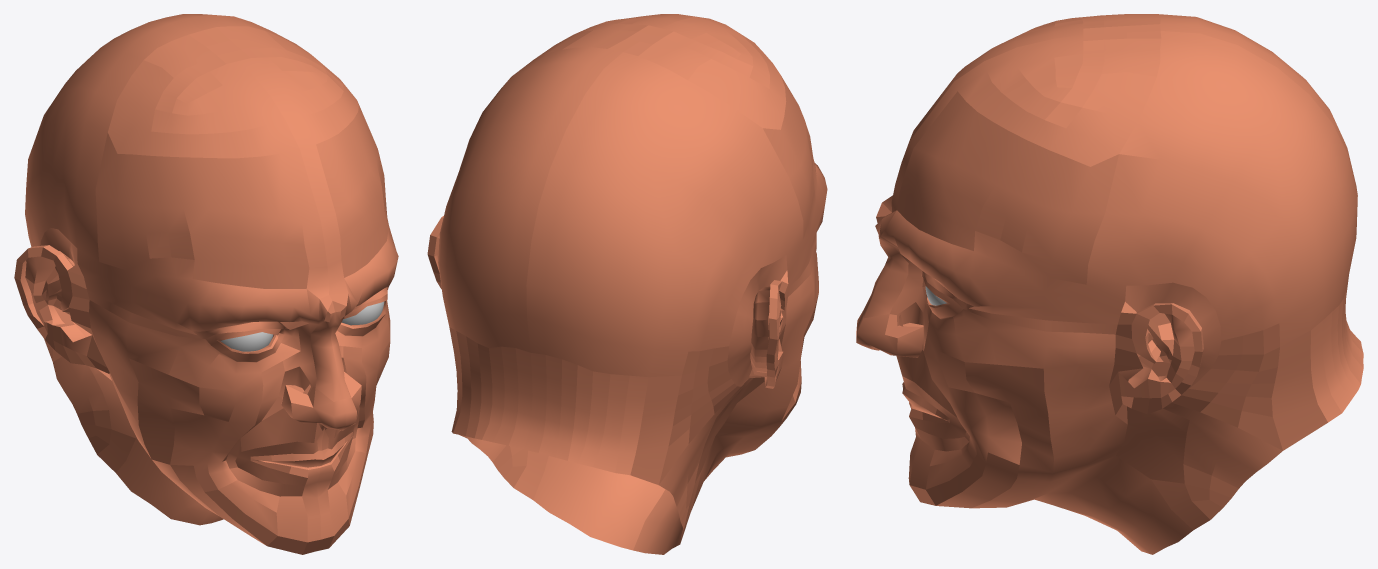
File: faceGLTF.gltf
The picture shows the model from 3 angles, left to right: view 1: azimuth 30°, elevation 25°; view 2: azimuth 150°, elevation 25°; view 3: azimuth 270°, elevation 25°; orthographic projection. The views are drawn at different scales.
Parts seen in each view (by area): view 1: face; view 2: face; view 3: face.
Part boxes in pixels (bbox=[...]): face: bbox=[14, 14, 398, 554]; face: bbox=[427, 14, 827, 554]; face: bbox=[856, 14, 1363, 554].
Size of the model in its own units: 16.85 by 23.25 by 20.75.
